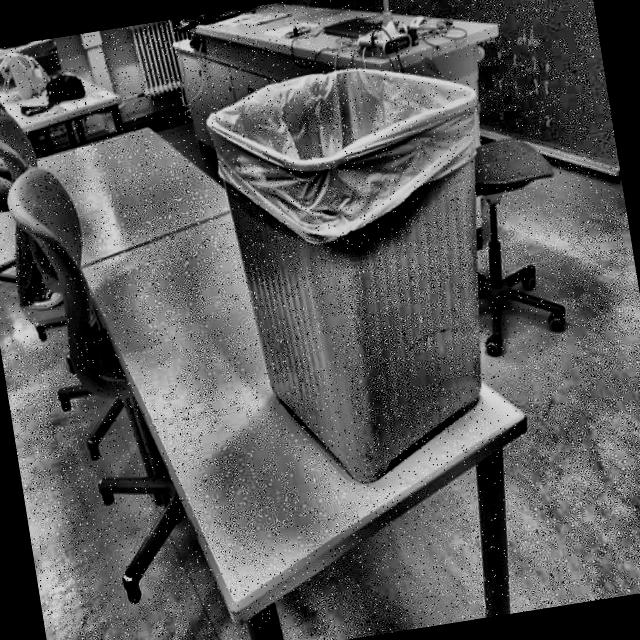Dustbin: (186, 11, 564, 518)
